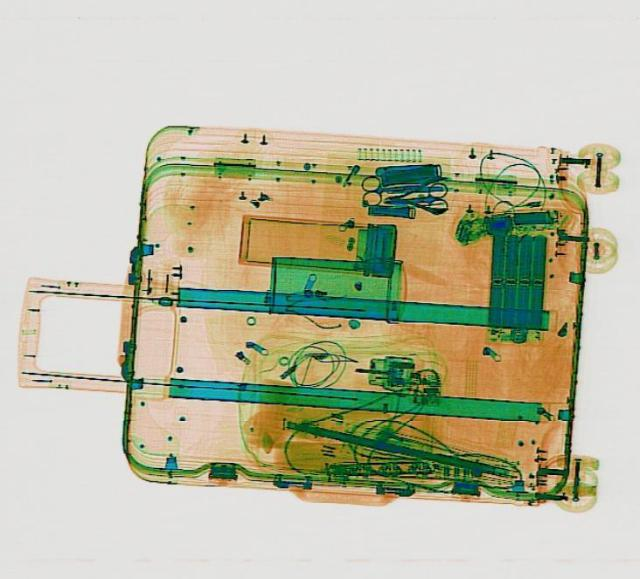Scissors: (359, 169, 445, 207), (382, 183, 446, 209)
